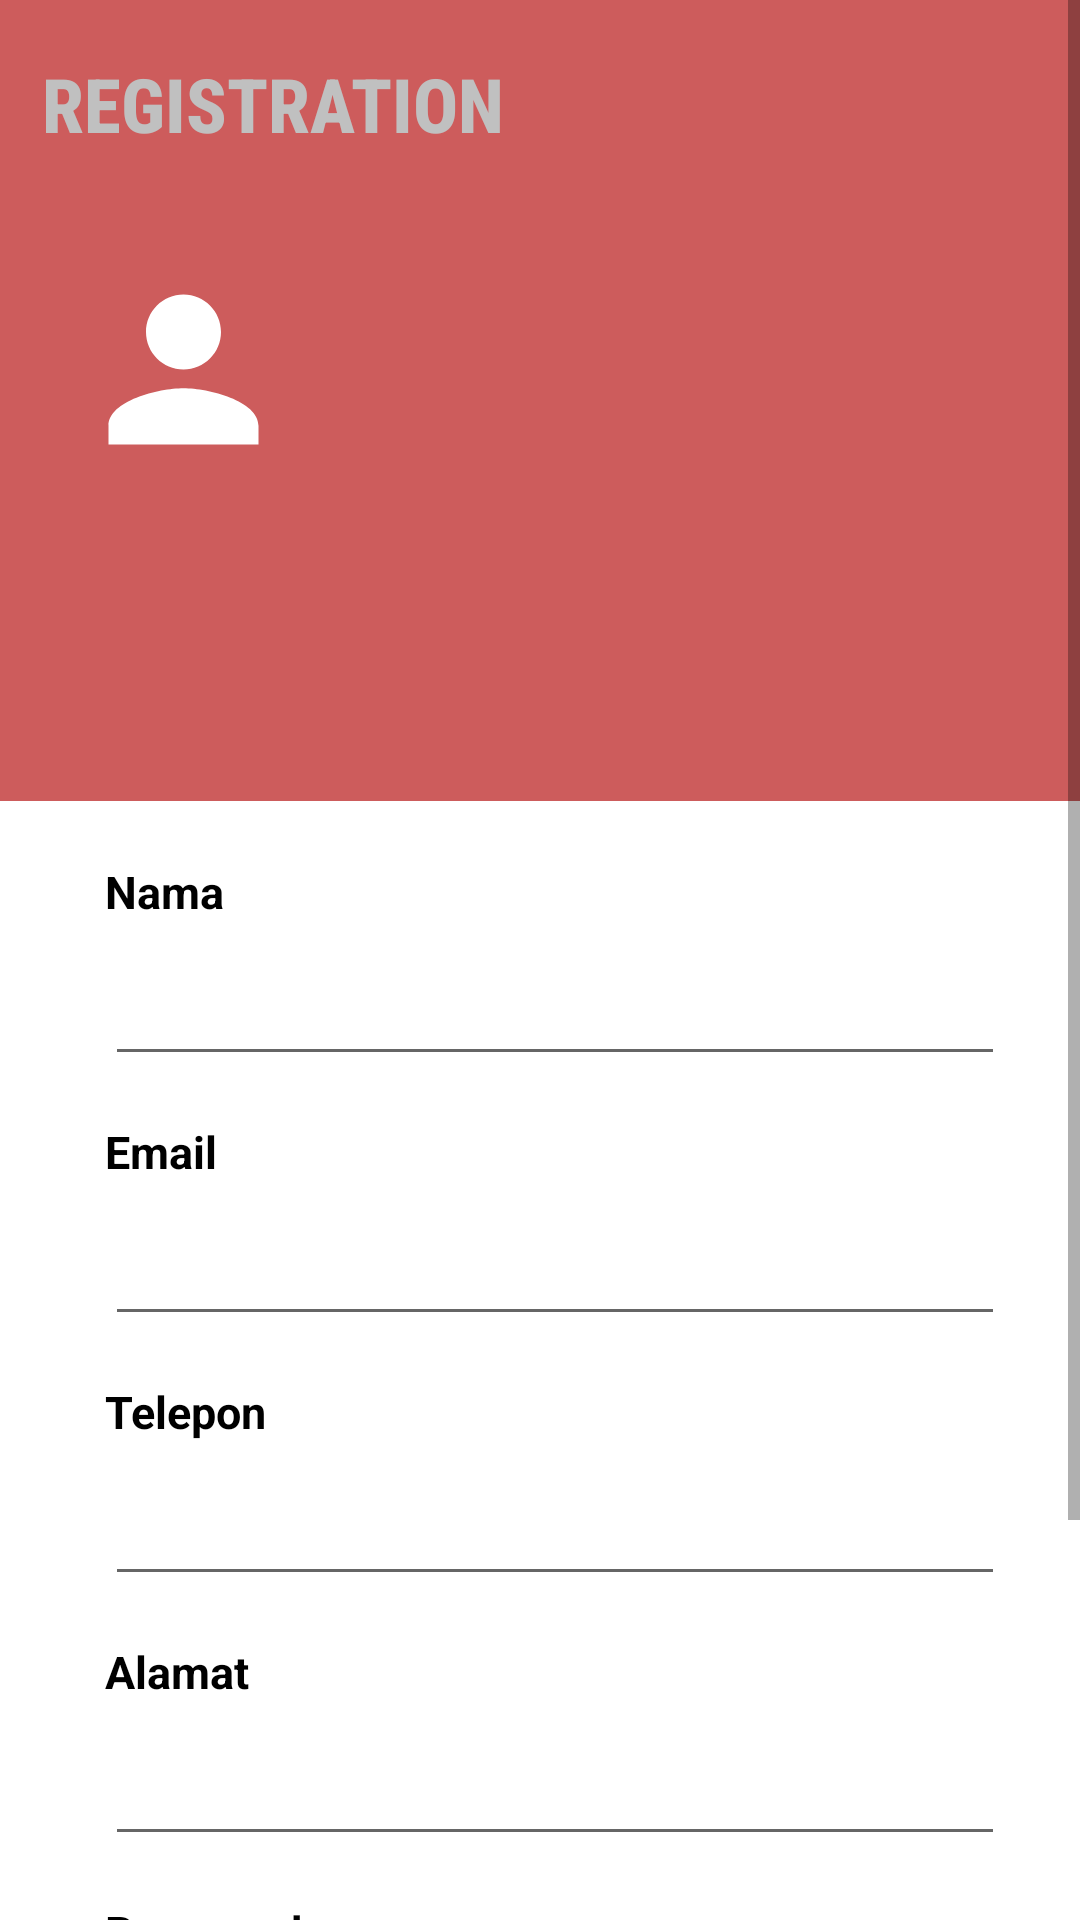

Where icons sit on this 1080x1920 app screen, as {"left": x1, "top": y1, "right": x2, "bottom": y2}:
person: {"left": 108, "top": 294, "right": 259, "bottom": 445}
